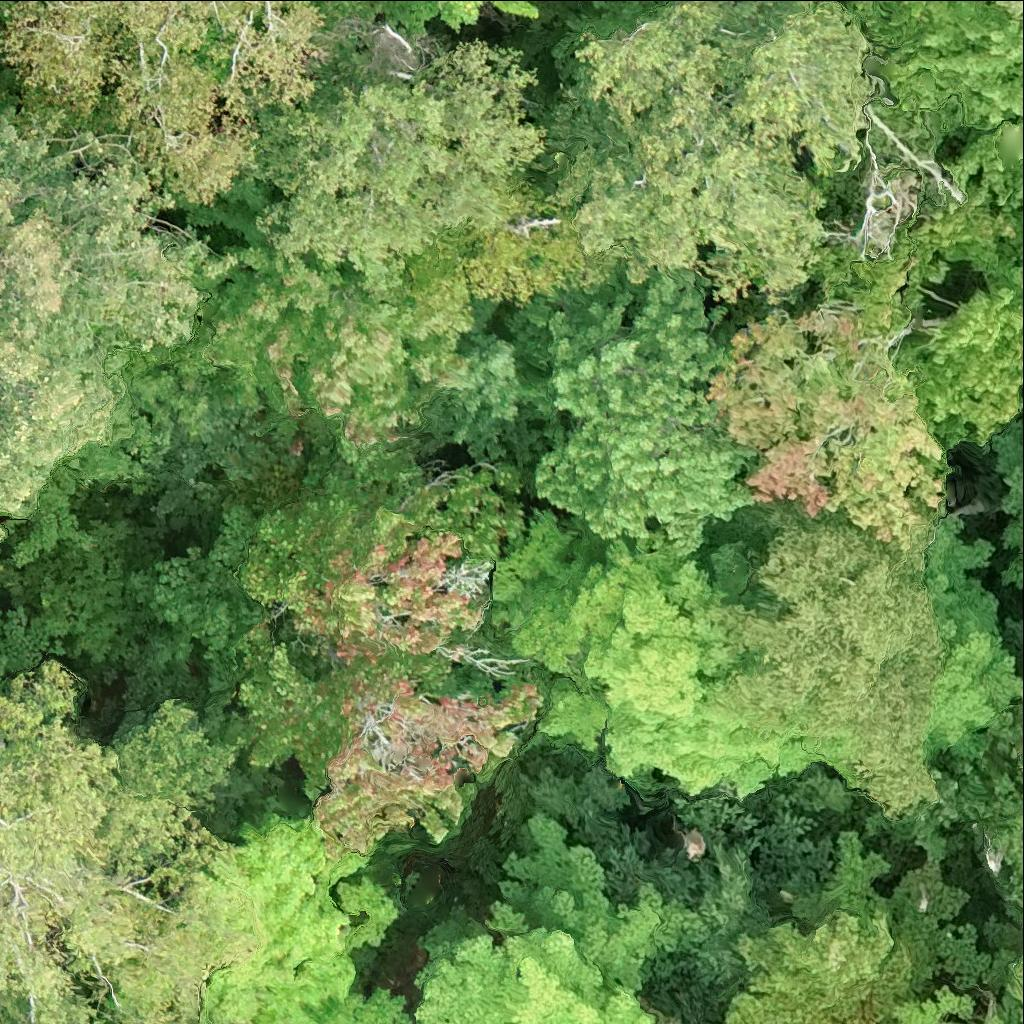crown: (493, 509, 876, 795), (0, 662, 259, 1023), (0, 115, 206, 523), (241, 42, 547, 289), (2, 0, 319, 217), (729, 521, 947, 816), (699, 312, 945, 553), (542, 270, 762, 537), (565, 77, 825, 295), (419, 815, 661, 1023), (192, 245, 424, 450), (237, 474, 478, 671), (305, 662, 543, 861), (208, 814, 408, 1023), (576, 0, 827, 133), (731, 0, 872, 174), (891, 267, 1023, 450), (218, 621, 346, 807), (842, 0, 1023, 127), (719, 902, 908, 1023), (131, 496, 264, 657), (922, 543, 1023, 745), (390, 460, 525, 565), (865, 163, 923, 255), (437, 0, 539, 32), (403, 334, 463, 388), (438, 561, 496, 599), (1011, 958, 1023, 1021), (0, 0, 39, 10), (994, 0, 1023, 13)
